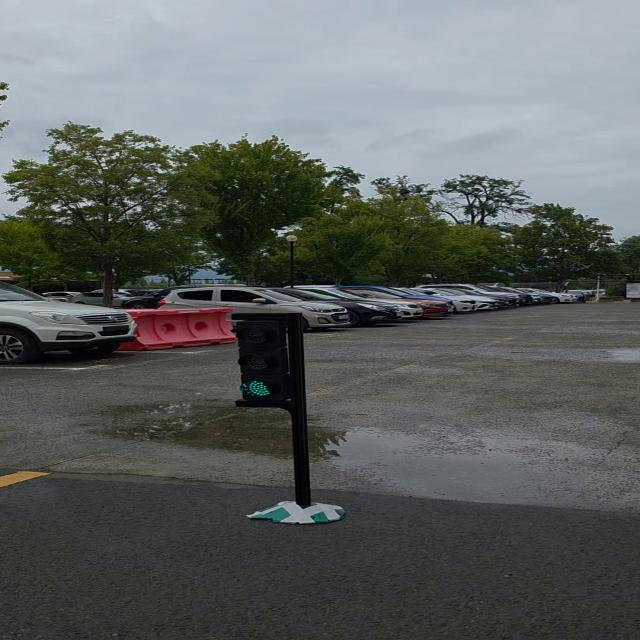green: (234, 312, 304, 408)
